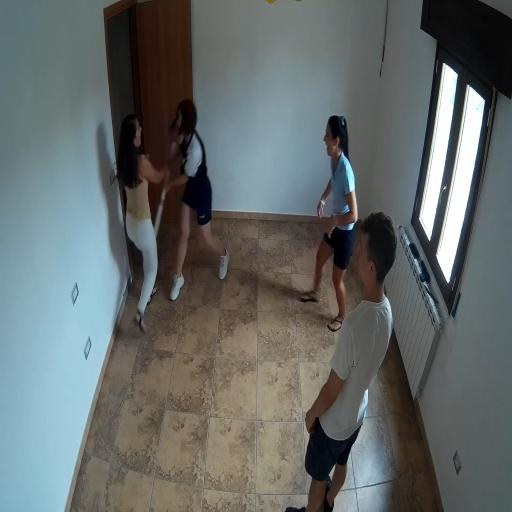violencia: (111, 87, 235, 340)
